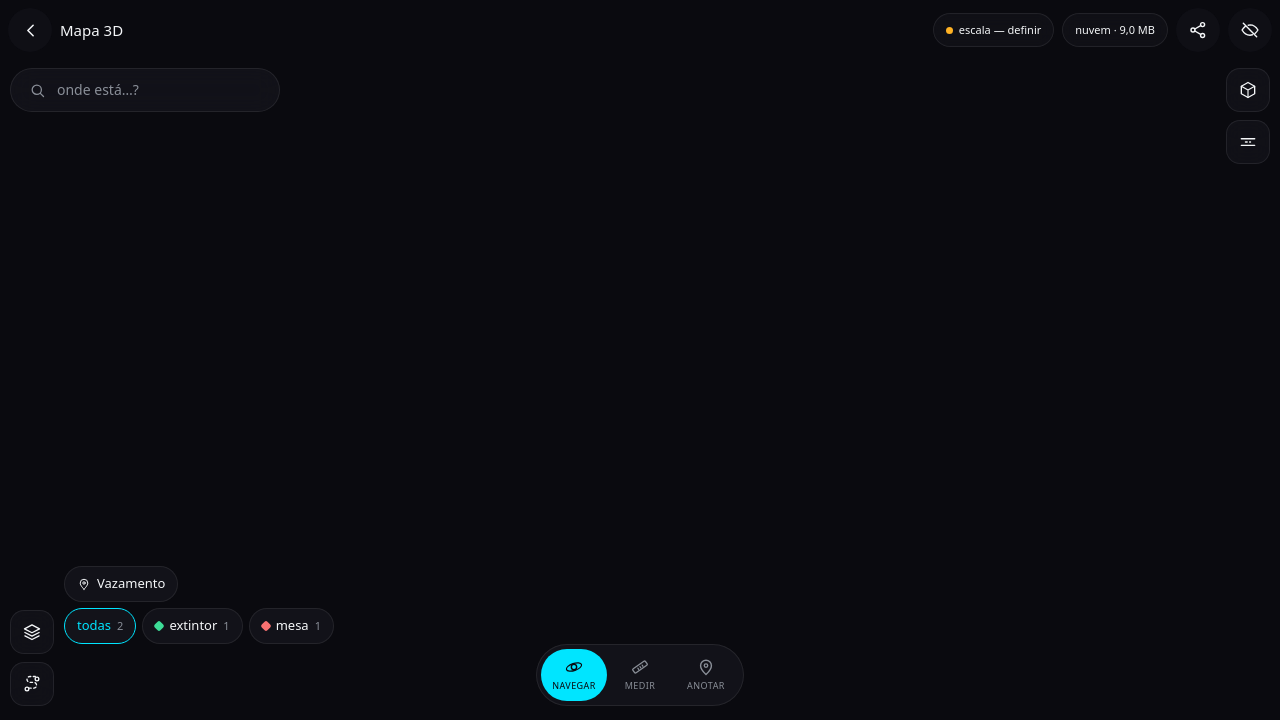
Test: gate de plugs — tela viewer (contrato v1.2) › tool-measure: hint + measure.remove após 2 pontos; medida em Mono com vírgula
Step 1. Click the tab "medir" → (640, 675), box [607,649,673,701]
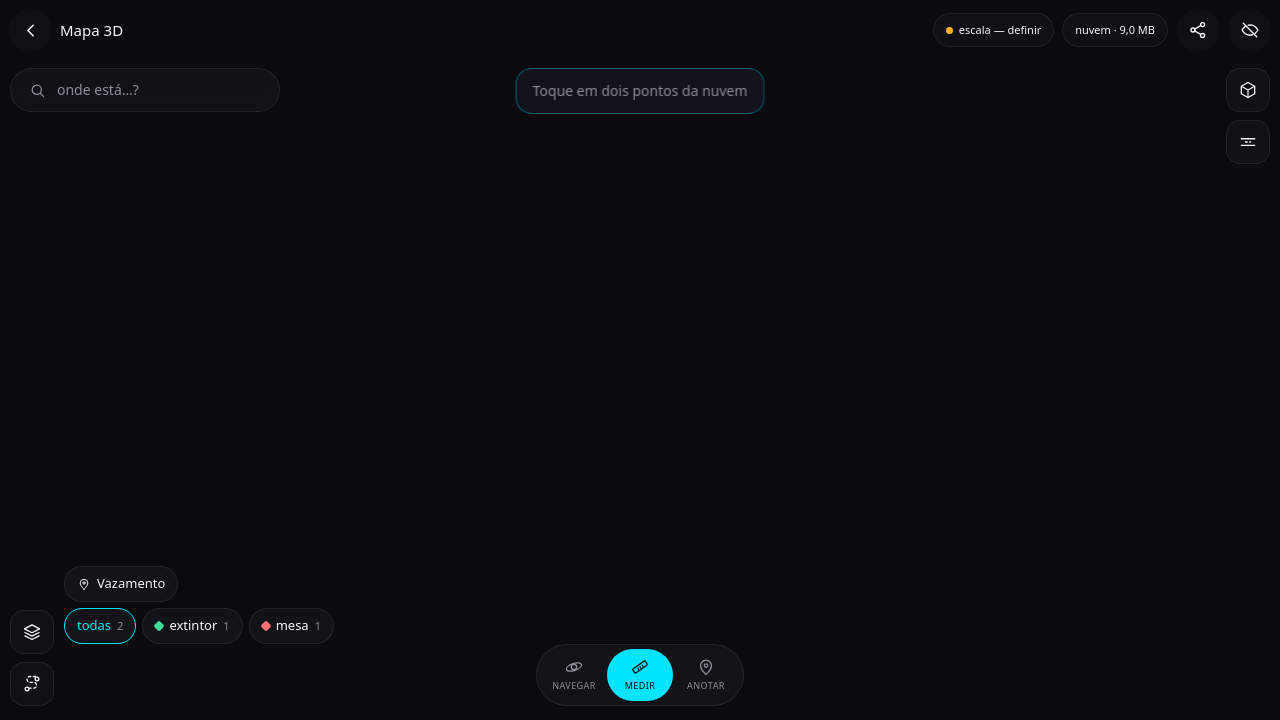
Expected: the text "Toque em dois pontos da nuvem" is shown, [533,81,747,101]
